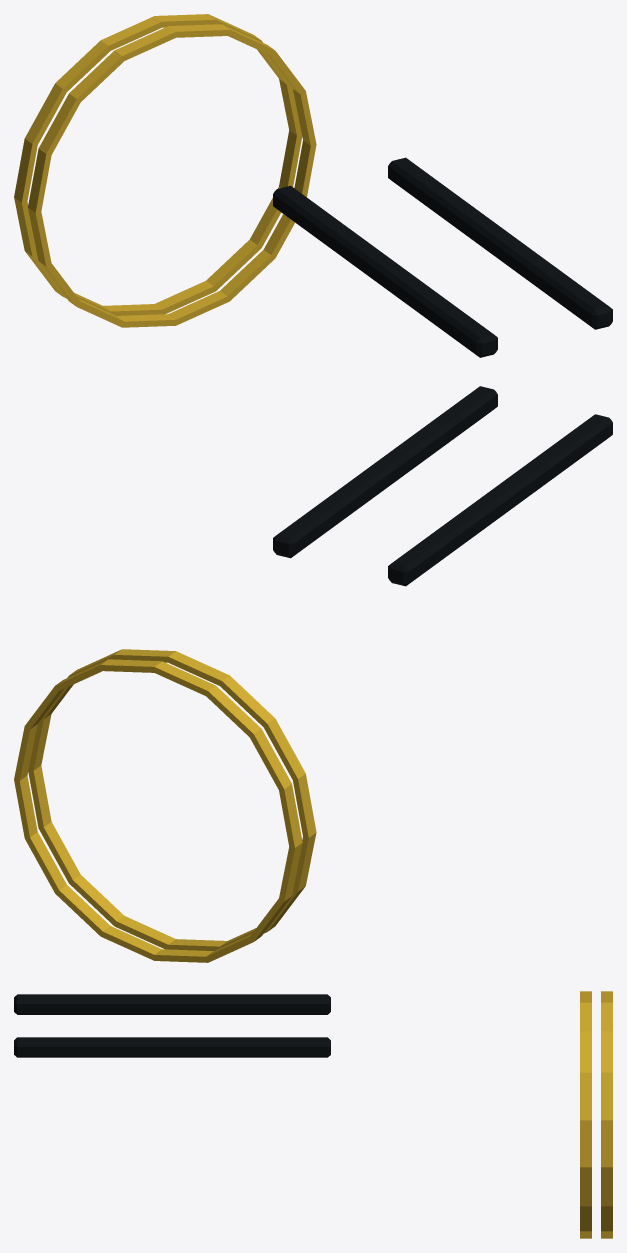
File: BombHeavy__Body.obj
3 renders of one model, top to bottom at view 1: azimuth 30°, elevation 25°; view 2: azimuth 150°, elevation 25°; view 3: azimuth 270°, elevation 25°, orthographic. The views are drawn at different scales.
Parts seen in each view (by area): view 1: Identification_band.001, Identification_band, Heavy_saddle_rib, Heavy_saddle_rib.001; view 2: Identification_band, Identification_band.001, Heavy_saddle_rib.001, Heavy_saddle_rib; view 3: Heavy_saddle_rib, Heavy_saddle_rib.001, Identification_band, Identification_band.001.
Boxes of the visible parts, <box> form: Identification_band.001: <box>28,24,316,327</box>; Identification_band: <box>14,14,302,315</box>; Heavy_saddle_rib: <box>273,185,497,357</box>; Heavy_saddle_rib.001: <box>388,157,612,329</box>; Identification_band: <box>14,659,302,962</box>; Identification_band.001: <box>28,649,316,950</box>; Heavy_saddle_rib.001: <box>273,386,497,558</box>; Heavy_saddle_rib: <box>388,414,612,586</box>; Heavy_saddle_rib: <box>14,994,330,1014</box>; Heavy_saddle_rib.001: <box>14,1037,330,1057</box>; Identification_band: <box>601,991,612,1238</box>; Identification_band.001: <box>580,991,591,1238</box>.
Size of the model in its own units: 0.5858 by 0.5858 by 1.42.
